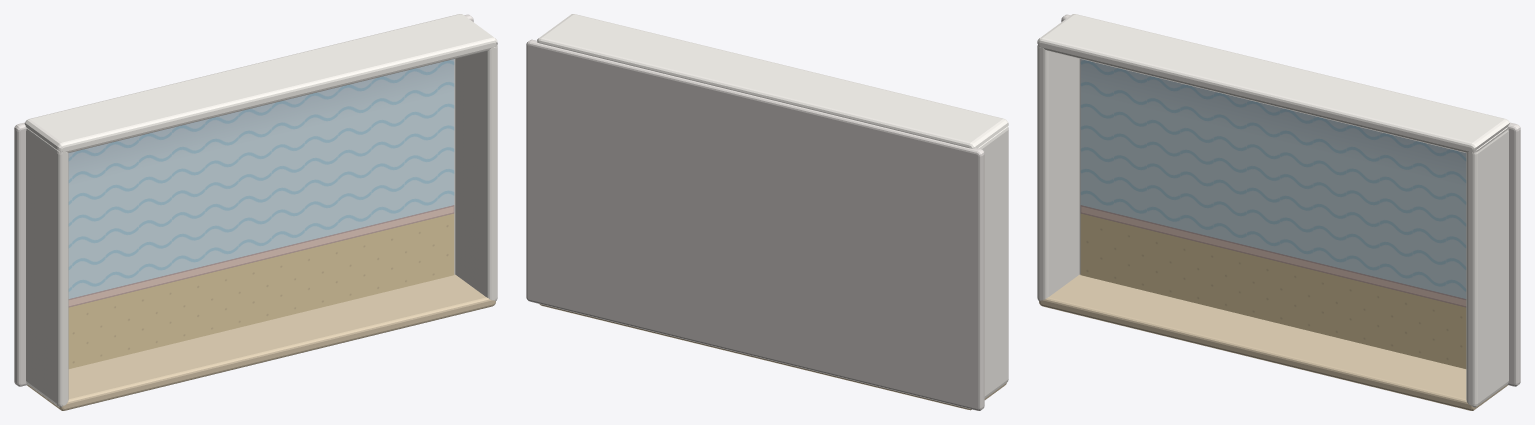
Rendered from room_ocean.glb.
3 renders of one model, left to right at view 1: azimuth 30°, elevation 25°; view 2: azimuth 150°, elevation 25°; view 3: azimuth 330°, elevation 25°, orthographic.
Visible parts, largest first — view 1: room_ocean; view 2: room_ocean; view 3: room_ocean.
Part boxes in pixels (box(x1,y1,x2,y2)): room_ocean: box(14, 14, 497, 410); room_ocean: box(526, 14, 1008, 410); room_ocean: box(1037, 14, 1520, 410).
Size of the model in its own units: 66 by 37 by 9.4.
4 materials, 1 textured.
